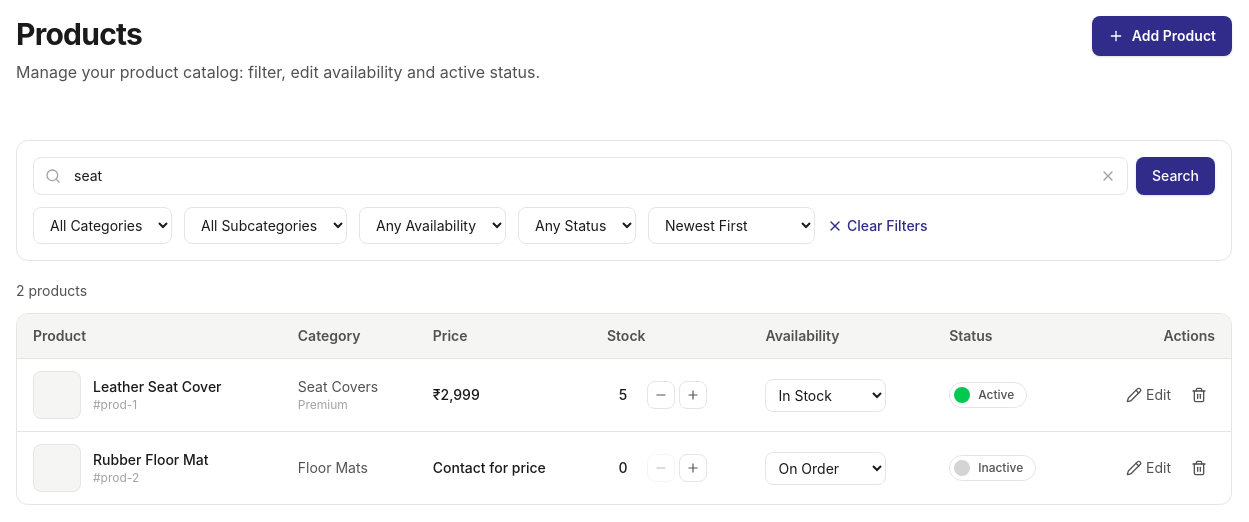
Scenario: ProductsAdminPage › clears search via the clear button
Expected: the text "Leather Seat Cover" is shown, [93,377,222,397]
Click the button named "clear search": (1108, 176) [1096,164,1120,188]
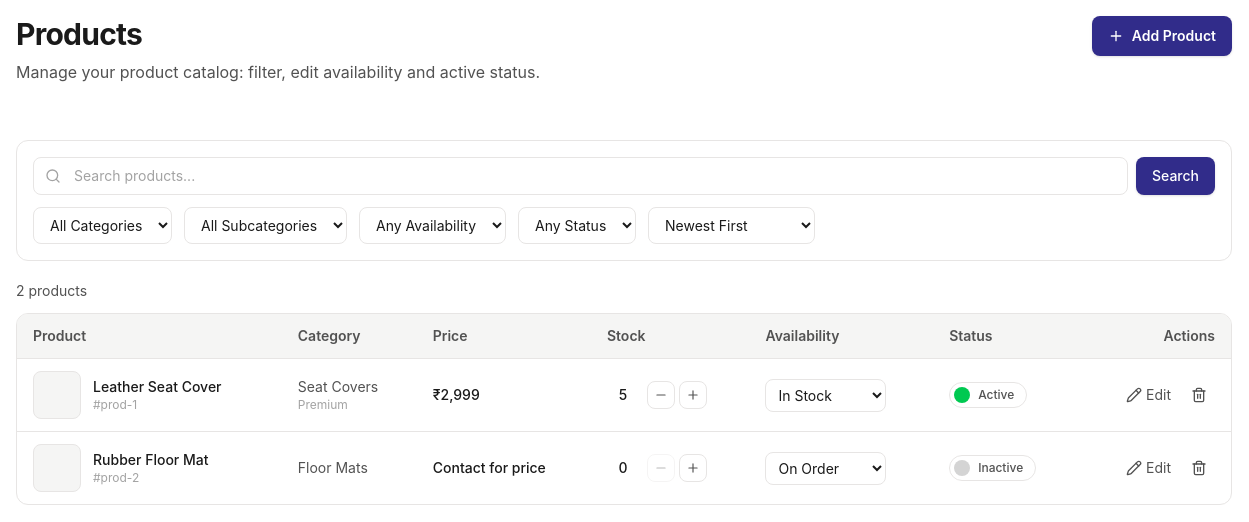
Now the search field labelled "Search products..." is empty, box [33,157,1128,195]
